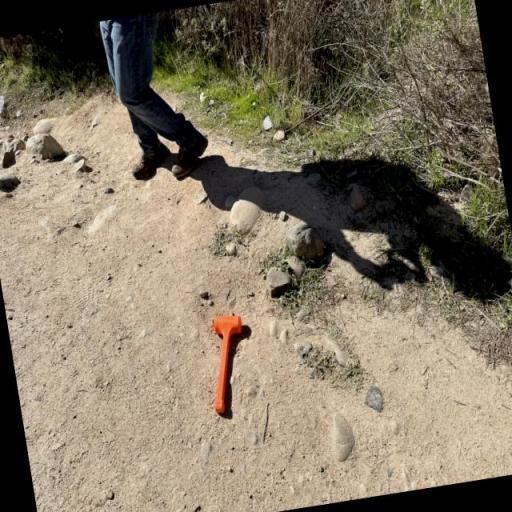mallet: (201, 312, 255, 414)
